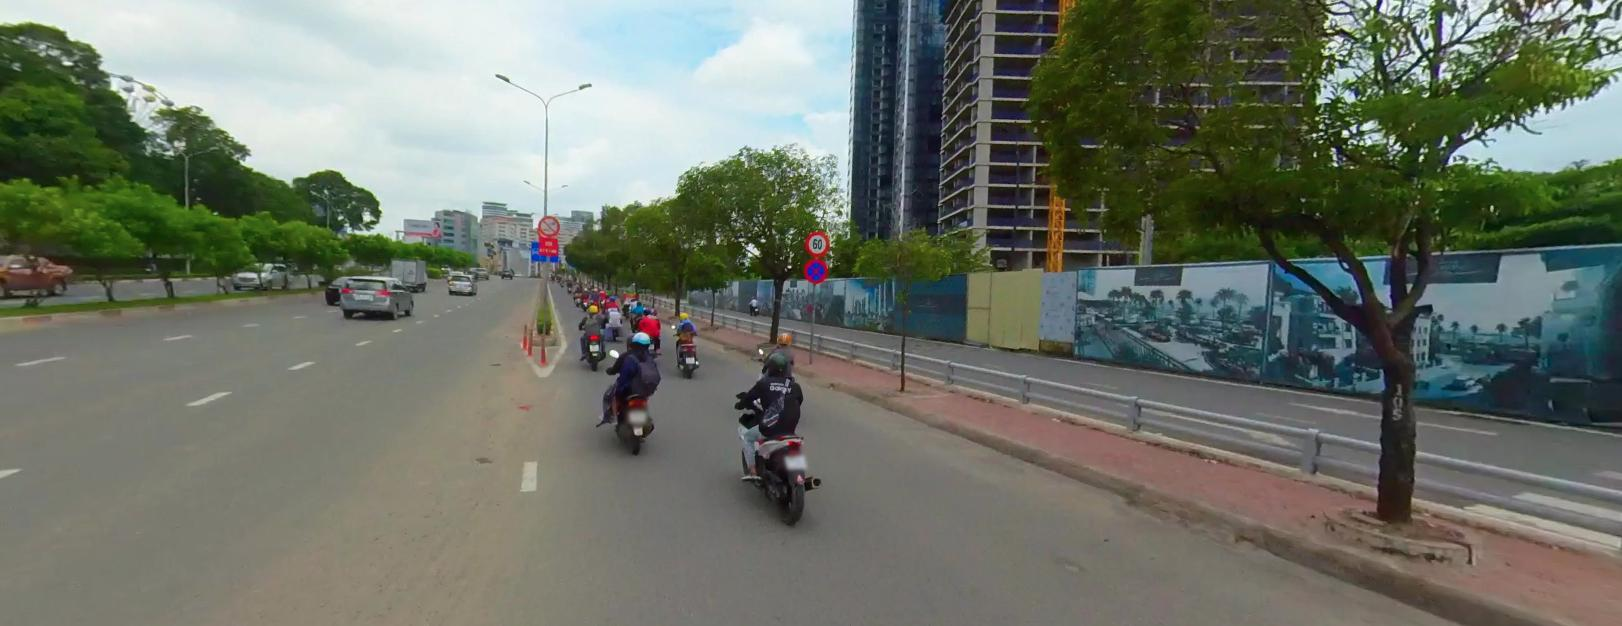Cam con lai: (538, 214, 559, 234)
Cam dung va do: (804, 259, 827, 282)
Gioi han toc do: (805, 231, 828, 255)
